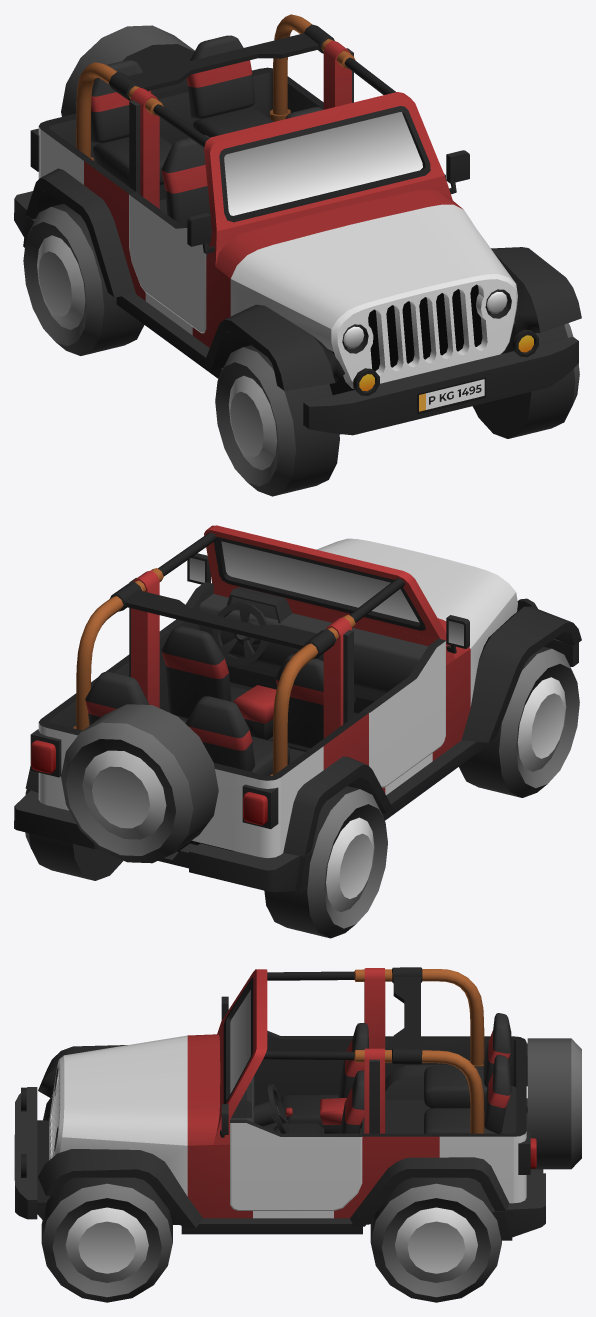
3 views of the same model, one above another, from view 1: azimuth 30°, elevation 25°; view 2: azimuth 150°, elevation 25°; view 3: azimuth 270°, elevation 25° (orthographic). The views are drawn at different scales.
Visible parts, largest first — view 1: Vehicle, FRW, RRW, FLW, Back Wheel, Register; view 2: Vehicle, Back Wheel, RRW, FRW, RLW; view 3: Vehicle, FLW, RLW, Back Wheel.
Part boxes in pixels (box(x1,y1,x2,y2)): Vehicle: box(14, 14, 581, 435); FRW: box(215, 345, 339, 496); RRW: box(23, 203, 144, 355); FLW: box(472, 320, 579, 438); Back Wheel: box(61, 25, 194, 116); Register: box(417, 377, 485, 414); Vehicle: box(14, 525, 581, 893); Back Wheel: box(61, 704, 218, 863); RRW: box(264, 786, 387, 938); FRW: box(459, 646, 579, 797); RLW: box(25, 791, 123, 880); Vehicle: box(15, 967, 545, 1240); FLW: box(41, 1177, 172, 1302); RLW: box(370, 1177, 501, 1302); Back Wheel: box(527, 1038, 581, 1169).
Bounding box in the file's own units: 207 × 181 × 393.
Materials: 2 (2 with a texture image).
